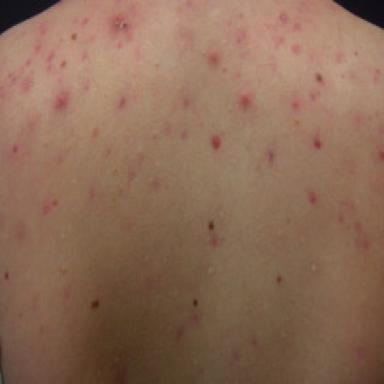acne: (113, 15, 129, 49), (355, 221, 369, 250), (238, 89, 253, 110), (55, 90, 70, 110), (209, 230, 220, 249), (207, 50, 220, 66), (266, 147, 277, 165), (235, 28, 247, 44), (290, 94, 300, 112), (272, 36, 285, 49), (149, 176, 160, 191), (117, 95, 127, 110), (211, 135, 221, 150), (163, 123, 173, 137), (47, 52, 54, 71), (313, 135, 322, 149), (308, 191, 317, 205), (309, 90, 320, 101), (279, 13, 288, 24), (292, 44, 301, 55), (43, 205, 52, 215), (293, 22, 302, 32), (59, 265, 69, 274), (92, 127, 100, 138), (337, 214, 345, 224), (82, 51, 89, 62), (183, 96, 189, 108), (83, 80, 89, 92), (12, 144, 19, 154), (82, 17, 89, 27), (181, 129, 187, 140), (41, 21, 46, 34), (378, 151, 384, 160), (25, 58, 31, 66), (53, 199, 58, 207)
